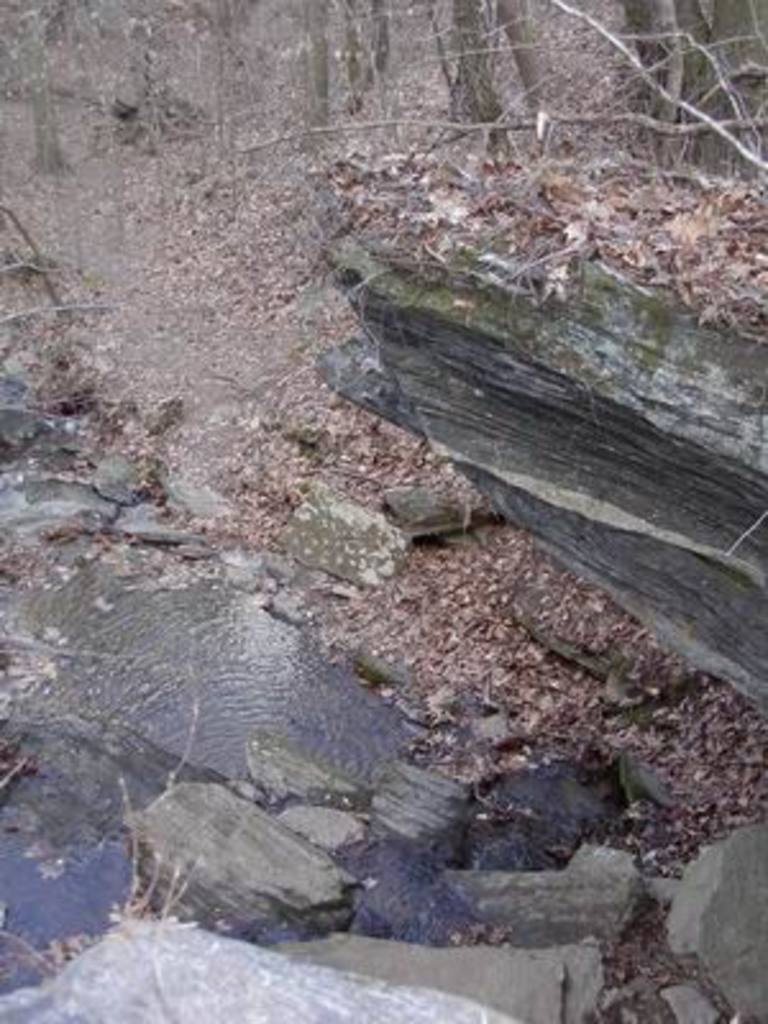Tree: (0, 0, 768, 198)
